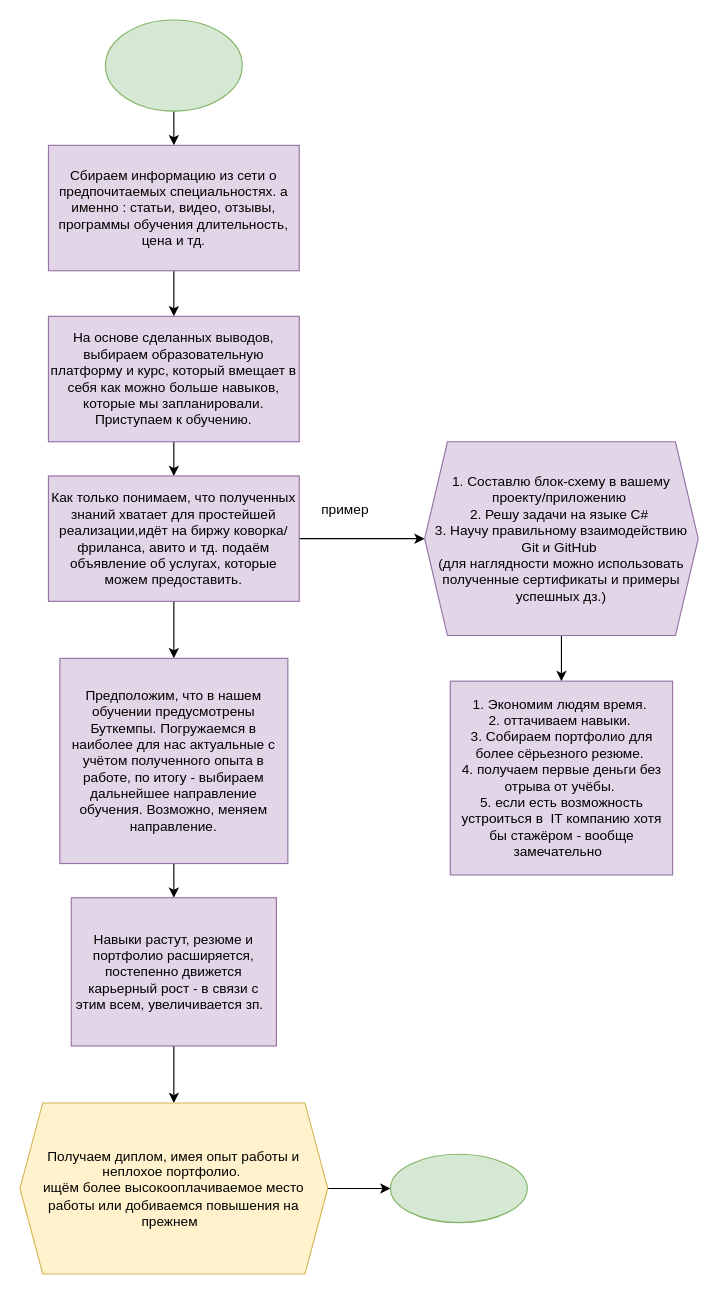
This 718x1294 diagram has some shape labels left out. The shapes that lost their labels are listed below. From the top down, each one's centre as x and y in pixels, then its label:
[173,65]: Stsrt.
[458,1188]: End. Цель достигнута.
